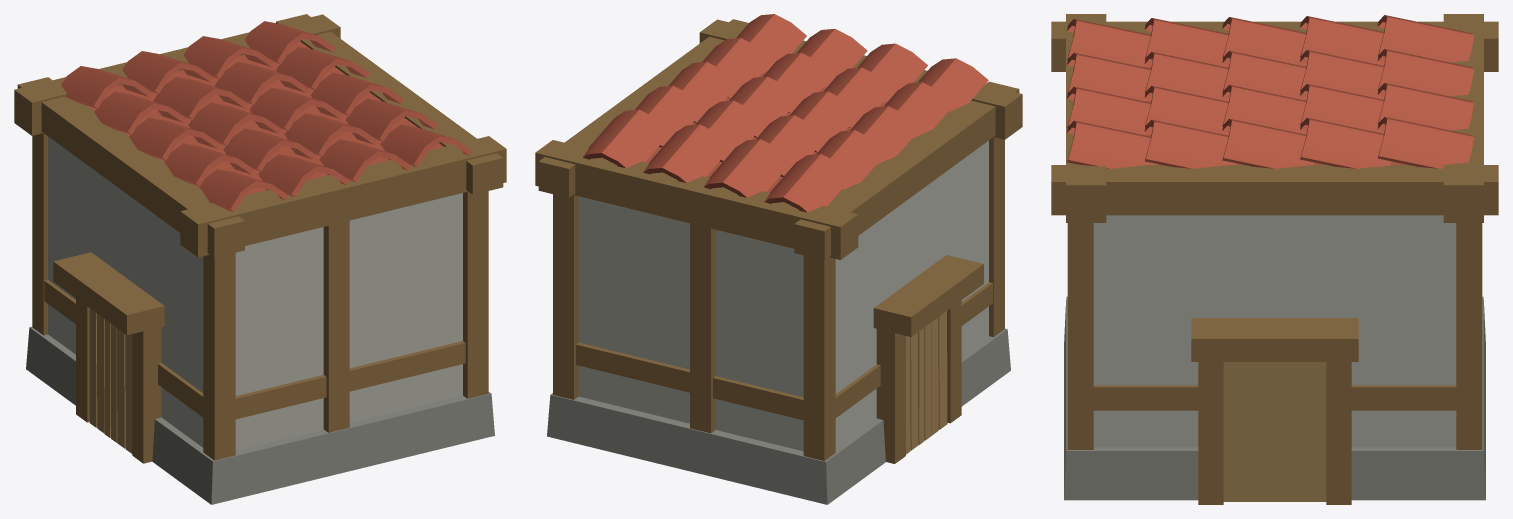
Rendered from House-YlADpCJU8U.glb.
3 views of the same model, side by side, from view 1: azimuth 30°, elevation 25°; view 2: azimuth 150°, elevation 25°; view 3: azimuth 270°, elevation 25° (orthographic). The views are drawn at different scales.
Parts seen in each view (by area): view 1: House-YlADpCJU8U; view 2: House-YlADpCJU8U; view 3: House-YlADpCJU8U.
Boxes of the visible parts, box(x1,y1,x2,y2) form: House-YlADpCJU8U: box(14, 14, 506, 504); House-YlADpCJU8U: box(535, 14, 1022, 504); House-YlADpCJU8U: box(1051, 14, 1498, 504).
Size of the model in its own units: 0.6765 by 0.5908 by 0.6765.
